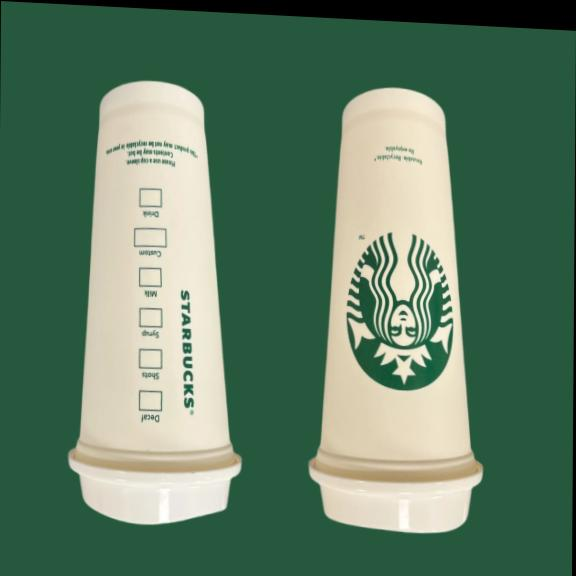Plastik: (310, 88, 481, 531), (69, 81, 240, 522)
